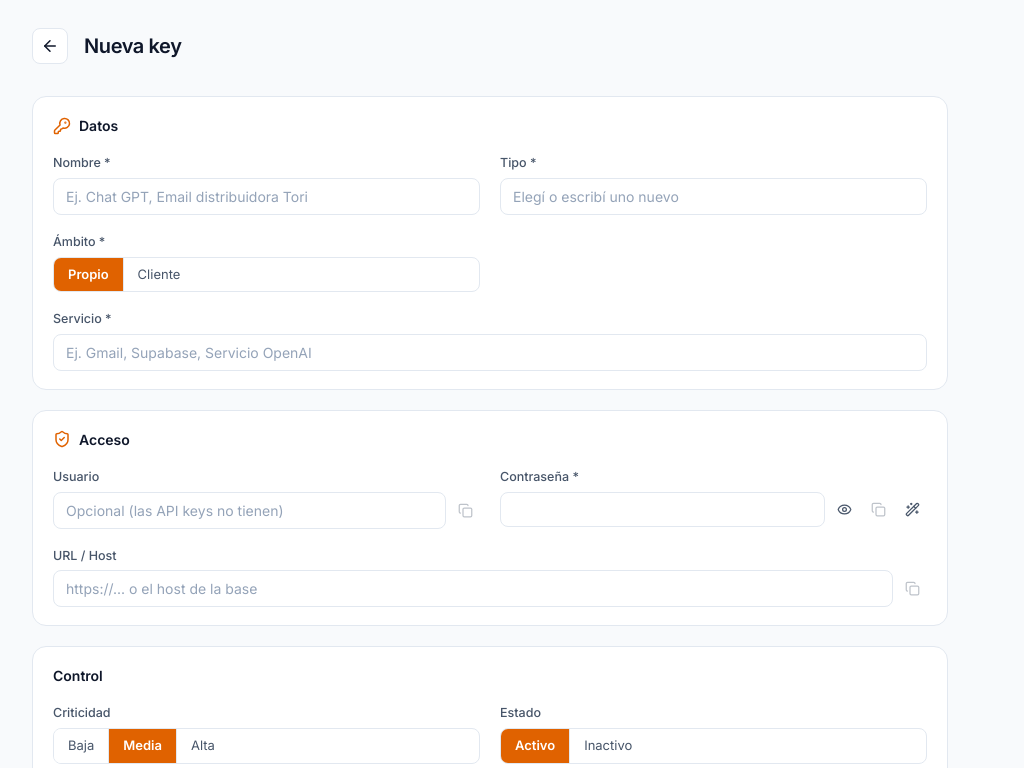
Test: KeyDetalle — alta (admin) › "Generar" crea una contraseña segura y la deja visible
What coordinates should you click on to do the following:
click the button named "Generar contraseña"
I would click on:
 (912, 509)
Its box is [897,494,927,524].
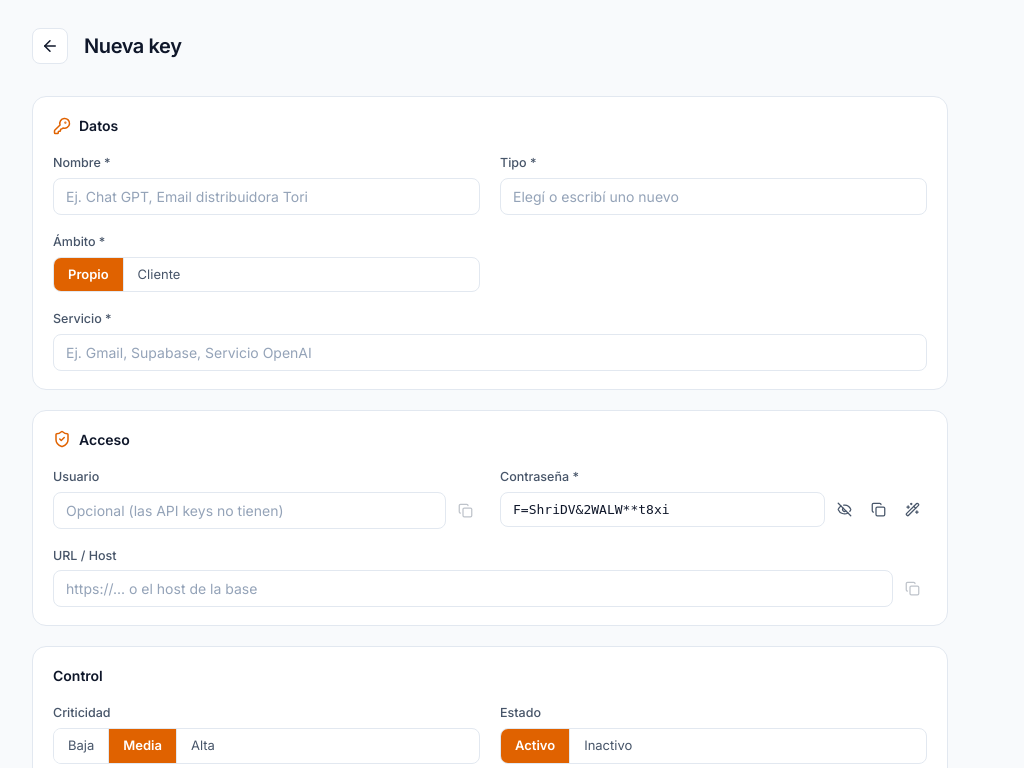
Check: the field labelled "Contraseña" shows its text, box [500,492,825,526]
